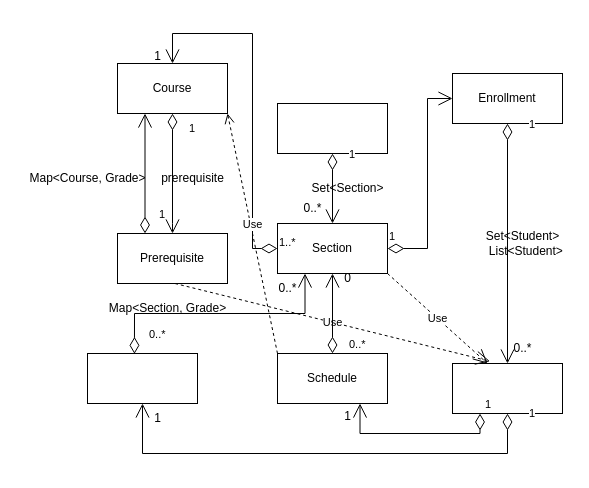
The diagram is 589 pixels wide and 488 high, and some of its shapes have lost their labels. Here are the shapes that lost their labels. From the top down, the box of each, then its label:
(276, 102, 388, 154): Catalog
(86, 352, 198, 404): Transcript
(452, 362, 562, 414): Student
